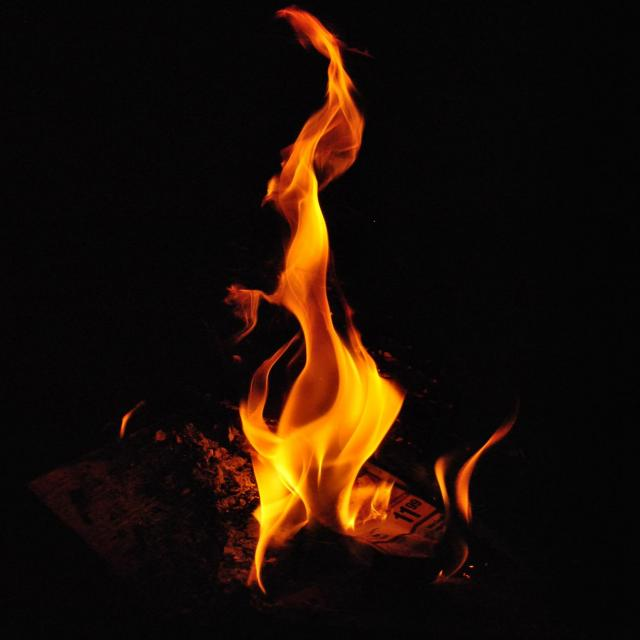fire: (176, 2, 497, 584)
